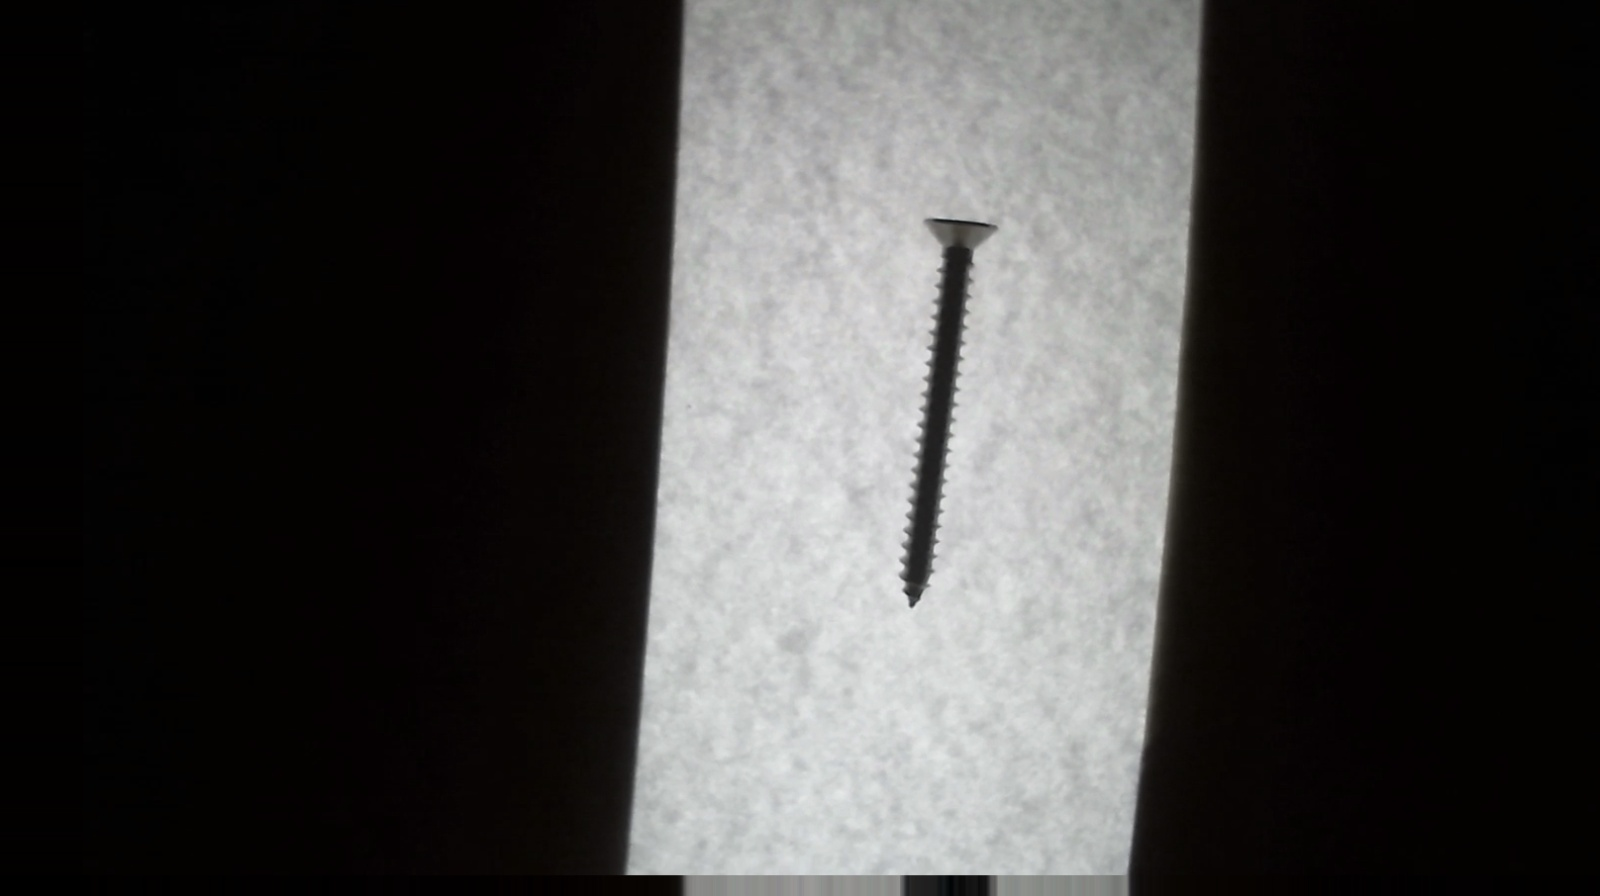S002: (887, 210, 1013, 611)
